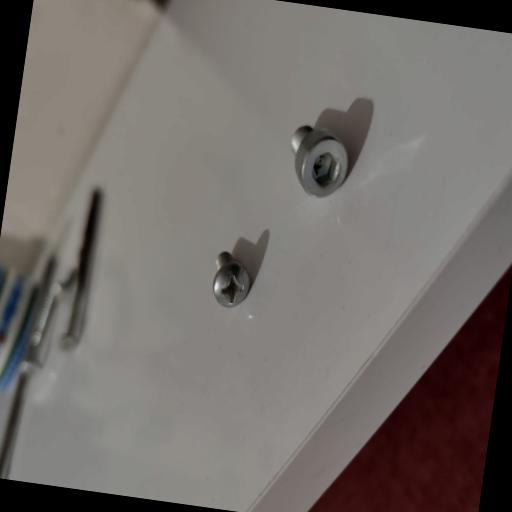Hex-Allen: (286, 120, 354, 204), (210, 252, 261, 319)
